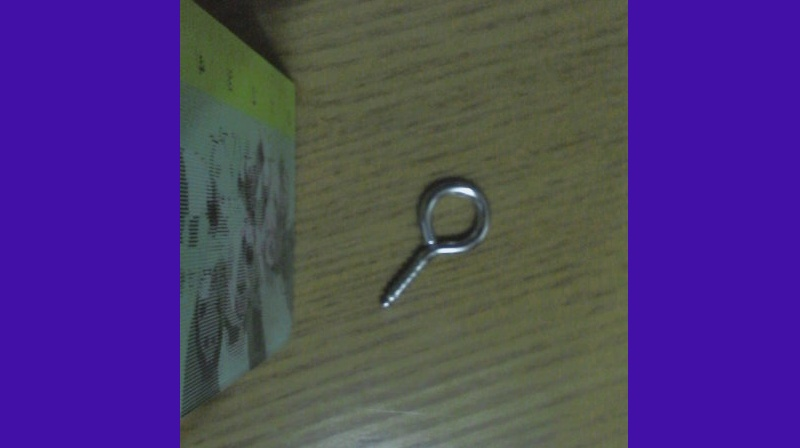O001: (374, 172, 494, 312)
